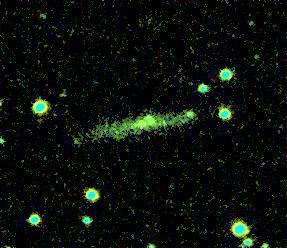star: (150, 108, 180, 138)
